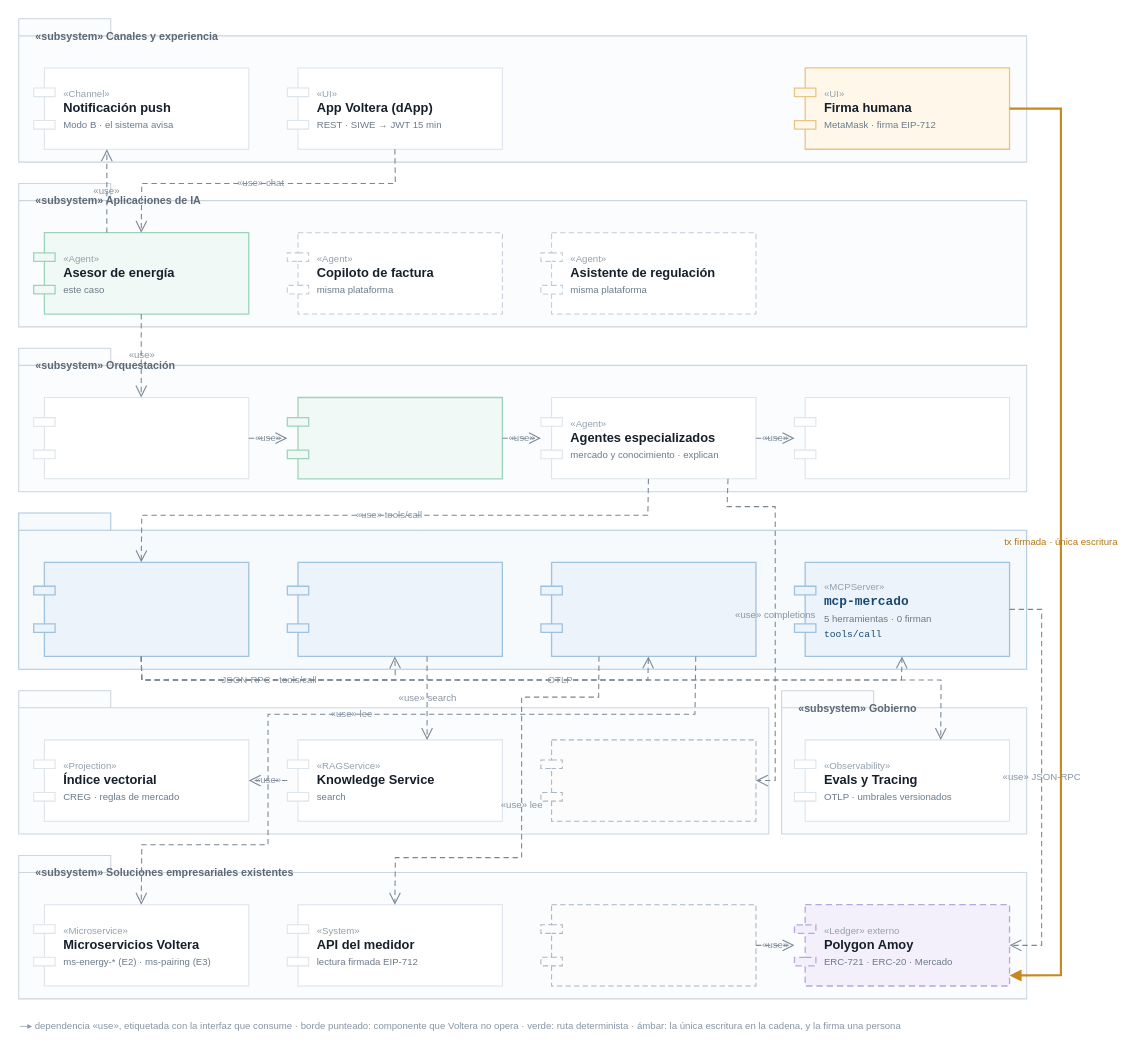
Image size: 1136x1056. Some labels were removed from this diagram. The shapes that lost their labels are listed below. From the top down, each one's box as (x1, y1, x2, y2) in pixels, then its label:
(33, 396, 249, 479): «Runtime» Supervisor ruteo por reglas · máx. 8 pasos
(286, 396, 502, 479): «PolicyEngine» Política de decisión evaluarOportunidad() · sin LLM
(793, 396, 1010, 479): «Store» Recomendación vigente caduca y se revalida
(33, 561, 249, 657): «MCPClient» MCP Client un cliente por servidor tools/list · tools/call
(286, 561, 502, 657): «MCPServer» mcp-conocimiento 1 herramienta · solo lectura tools/call
(18, 512, 1027, 669): «subsystem» Herramientas · MCP
(540, 561, 756, 657): «MCPServer» mcp-energia 3 herramientas · solo lectura tools/call
(18, 690, 769, 834): «subsystem» Conocimiento y modelos
(540, 739, 756, 821): «LLM» contratado Frontier LLM completions · zero-retention
(540, 904, 756, 986): «Oracle» externo Chainlink CRE no lo opera Voltera
